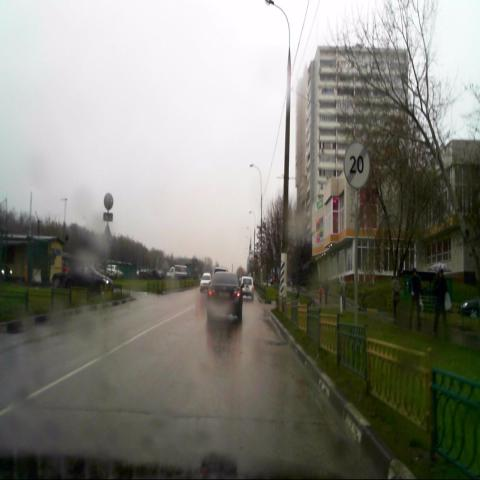3_25: (343, 143, 370, 187)
